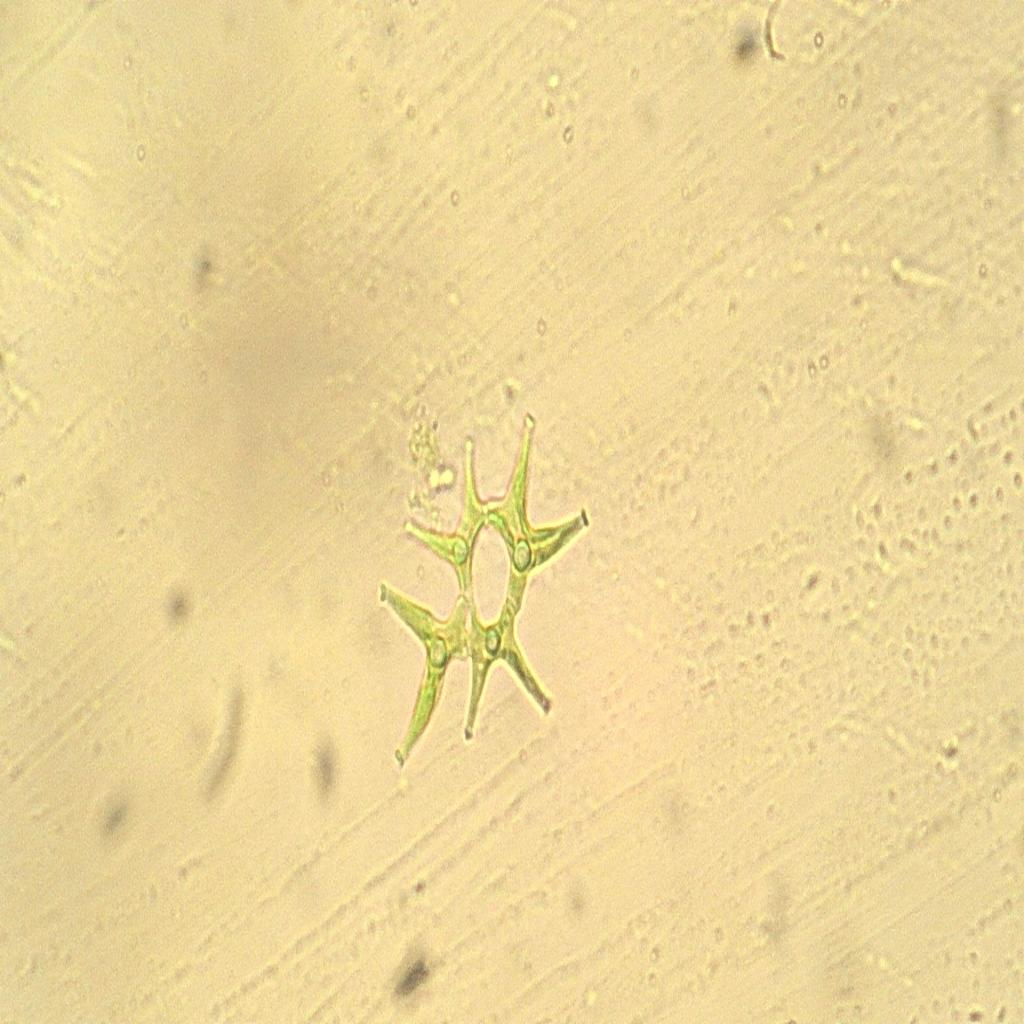Pediastrum_CT: (353, 404, 614, 782)
